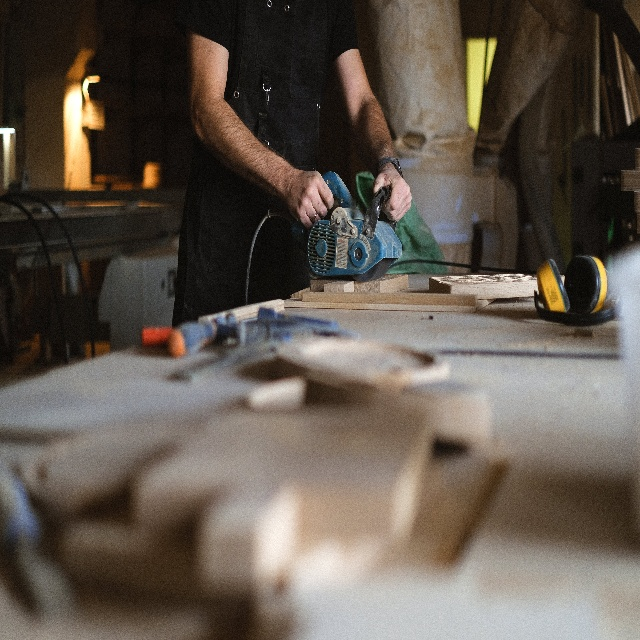Sin_guantes: (287, 164, 335, 228), (373, 164, 413, 222)
